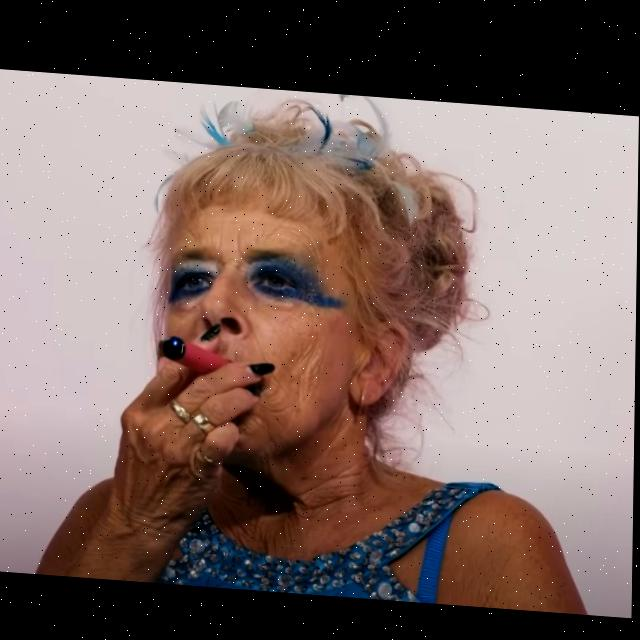vape: (163, 333, 235, 373)
